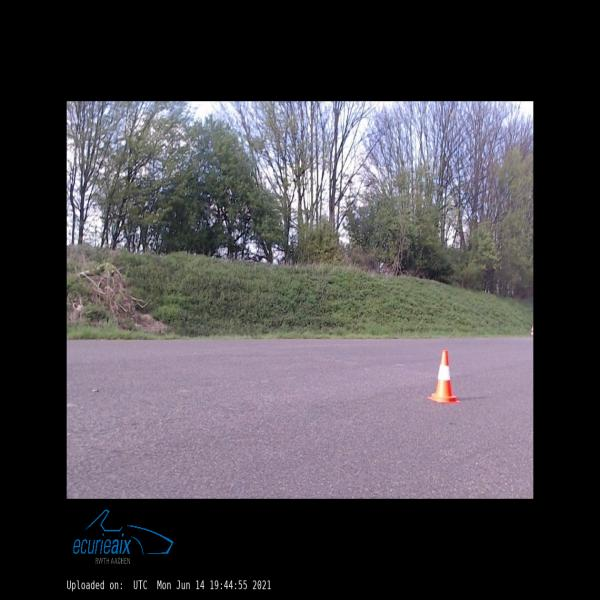orange_cone: (428, 350, 460, 403)
